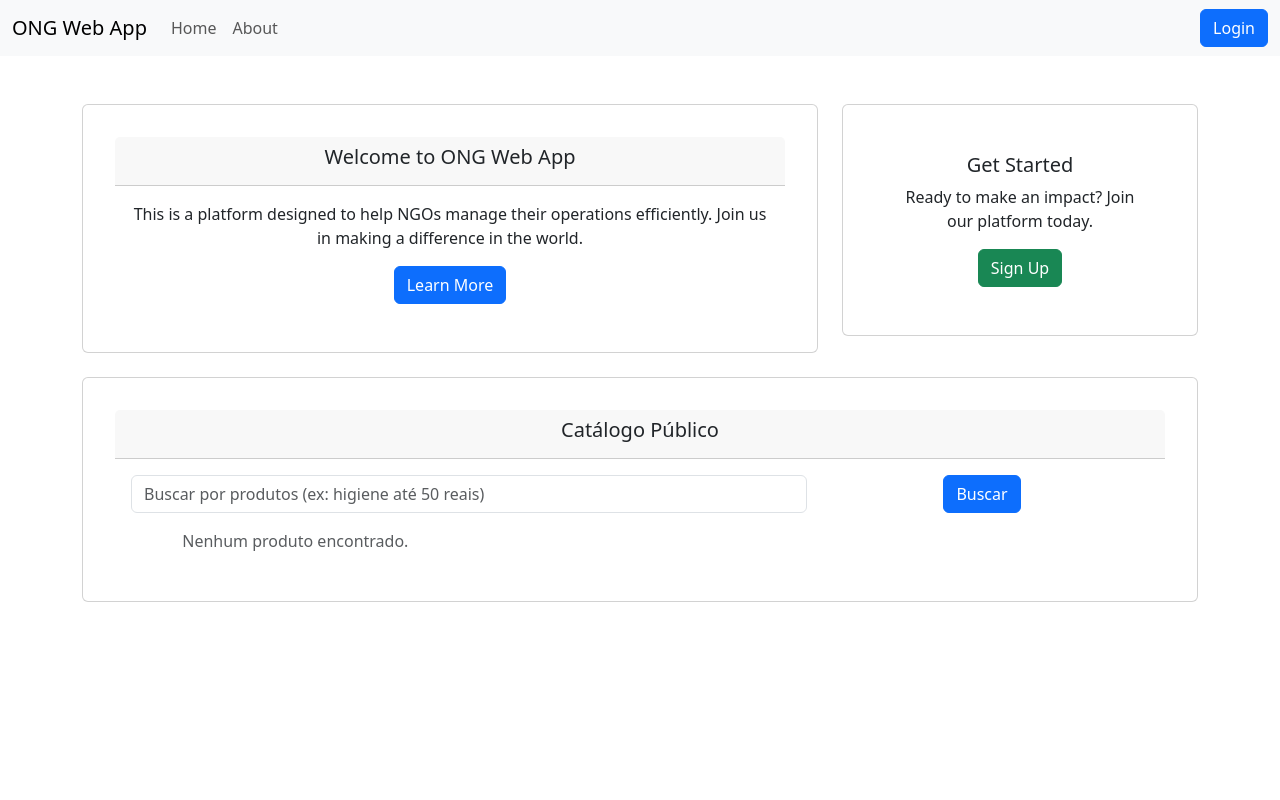
Scenario: Home public catalog › performs intelligent search and shows interpretation alert
This screenshot has width=1280, height=800.
Type "higiene até 50 reais" into the field with placeholder "Buscar por produtos (ex: higiene até 50 reais)" at (469, 494), box [131,475,807,513]
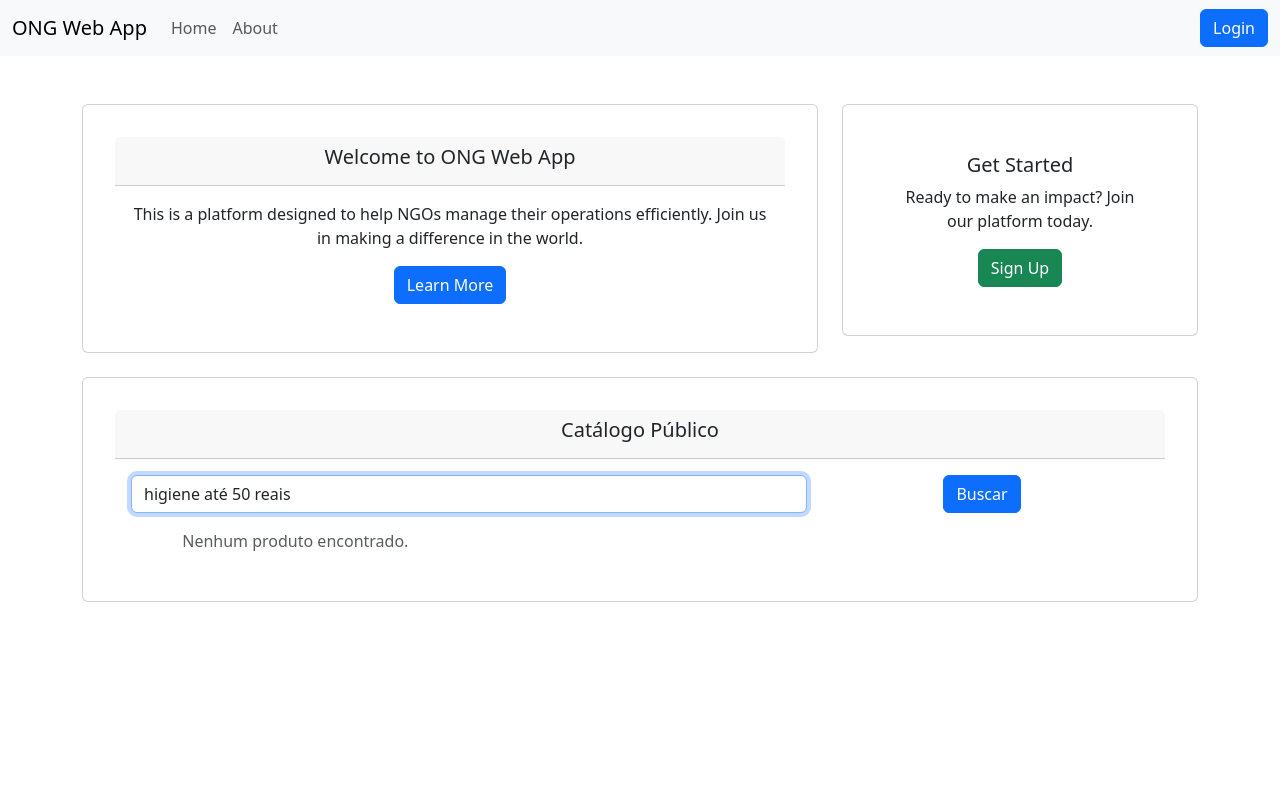
Click the button "Buscar" at (982, 494), box [943,475,1021,513]
(page scrolled)
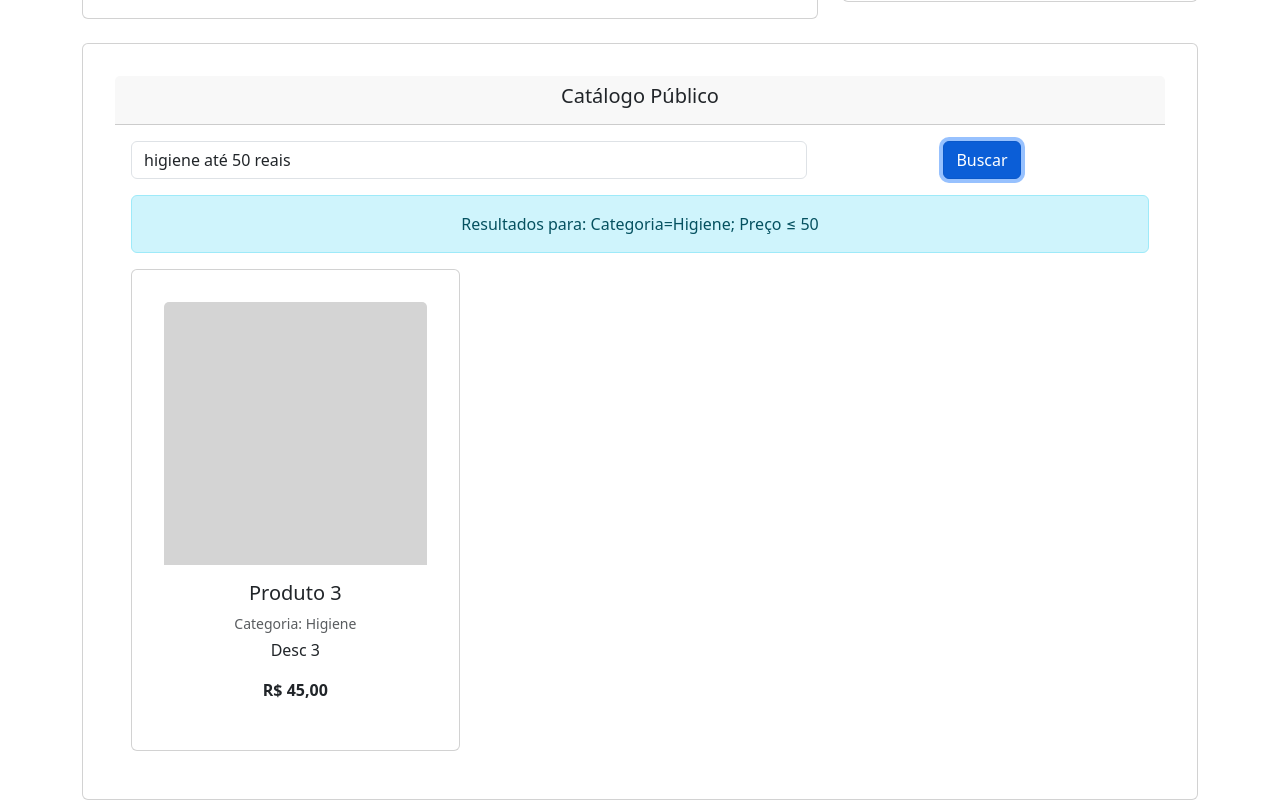
Expected: the text "Resultados para: Categoria=Higiene; Preço ≤ 50" is shown, [131,195,1149,253]
Expected: the heading "Produto 3" is shown, [249,579,342,606]
